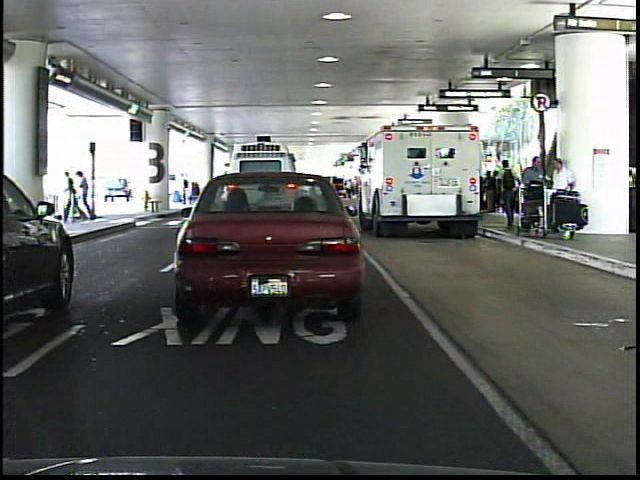person: (58, 168, 79, 223), (75, 167, 95, 223)
